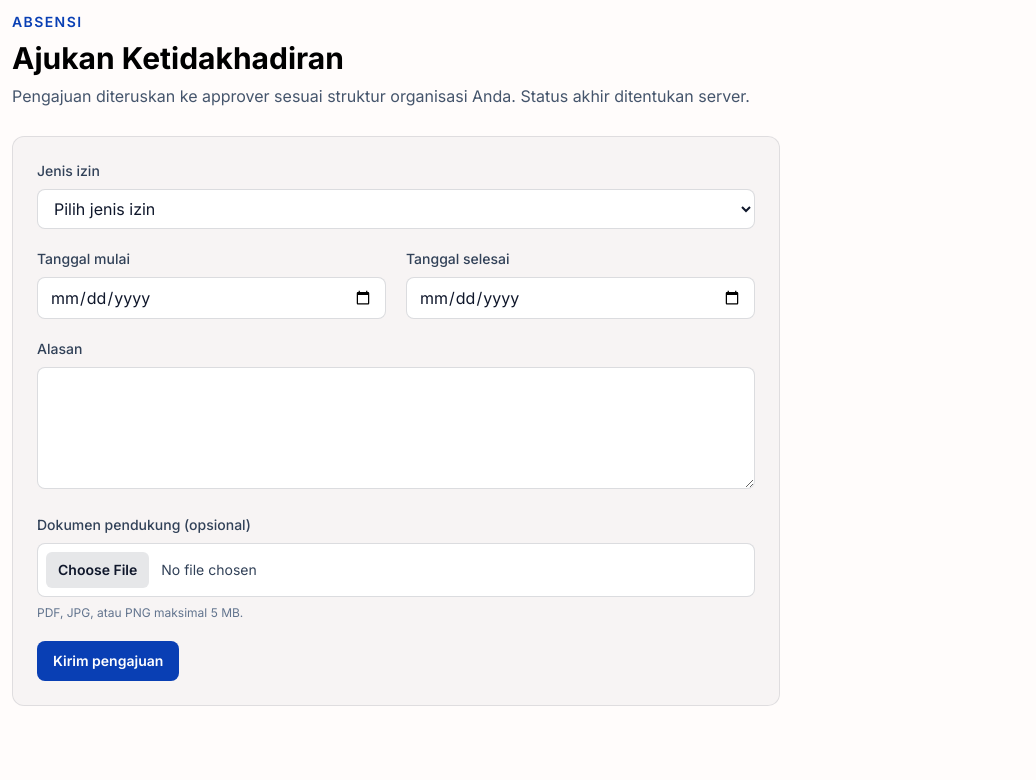
LeaveRequestPage › rejects an end date before the start date
Step 1. Select "Cuti Tahunan" in the dropdown labelled "Jenis izin" → (396, 209), box [37,189,755,229]
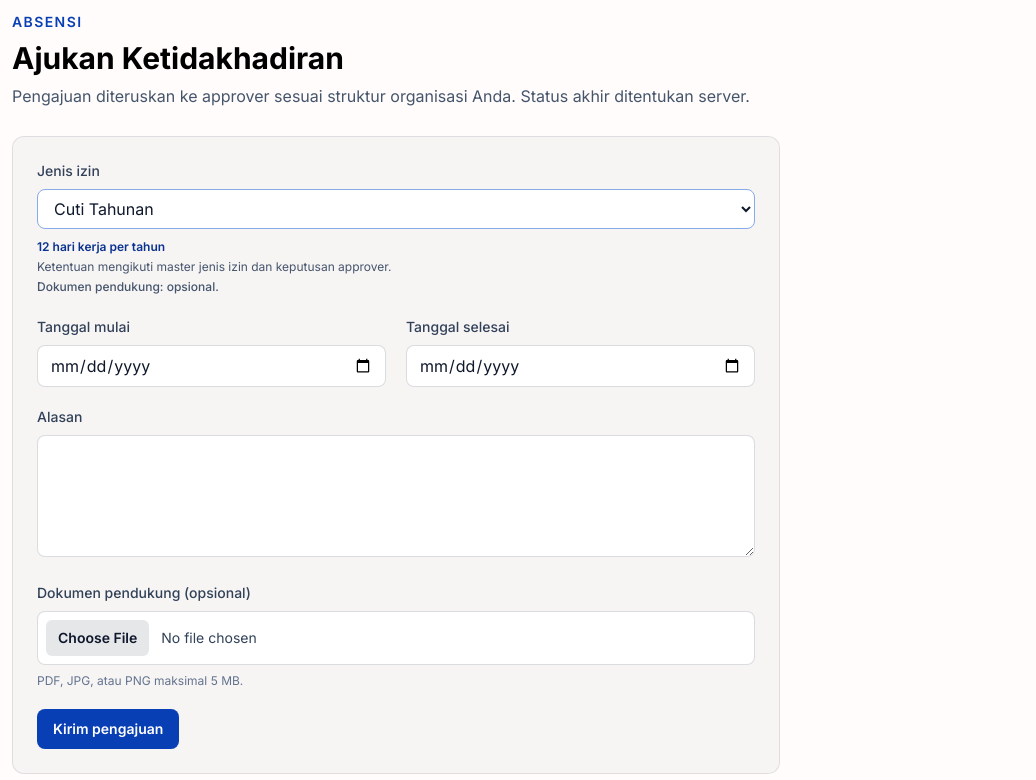
Step 2. Type "2026-08-12" into the date field labelled "Tanggal mulai" → (212, 366), box [37,345,386,387]
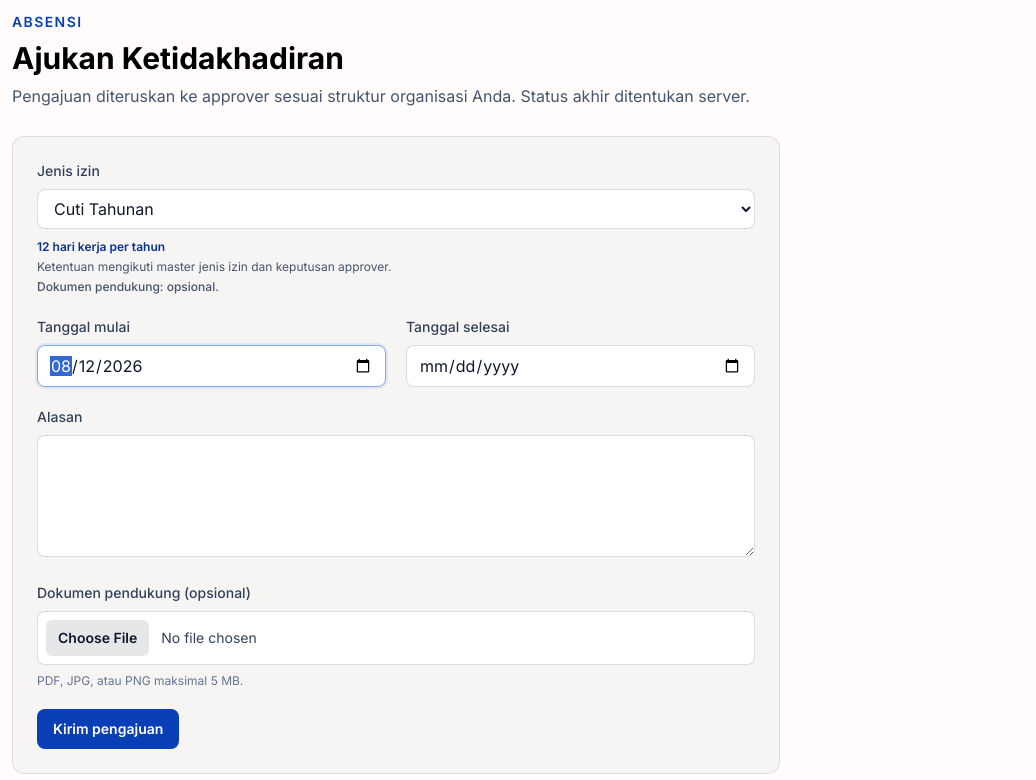
Step 3. Type "2026-08-10" into the date field labelled "Tanggal selesai" → (580, 366), box [406,345,755,387]
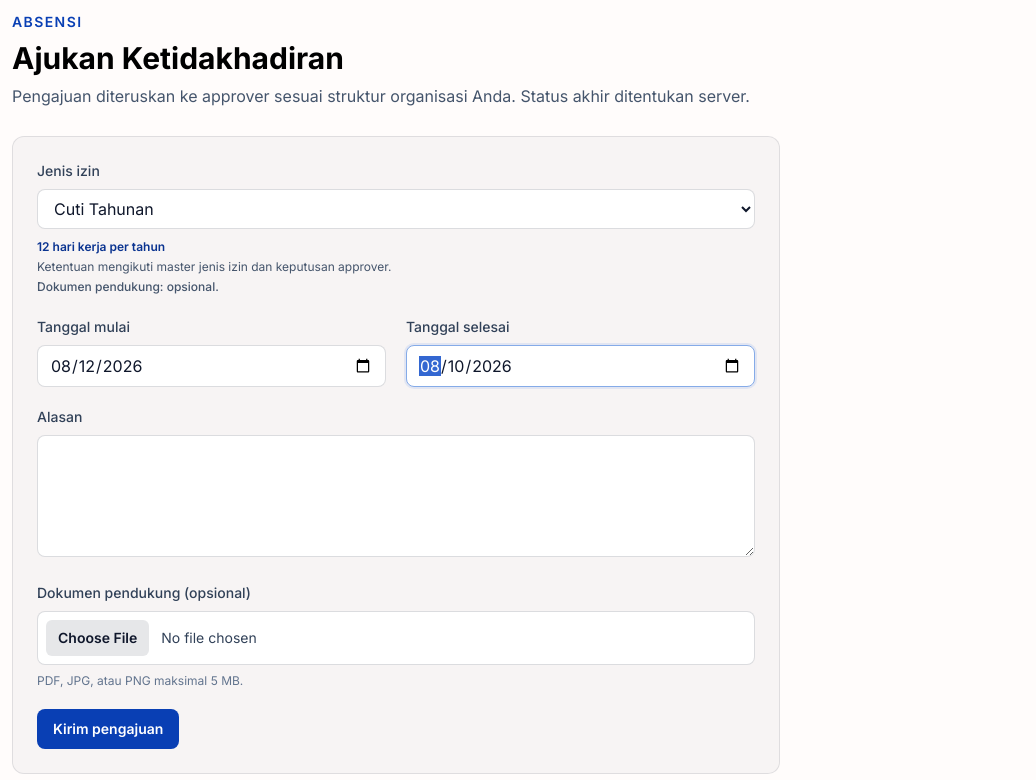
Step 4. Type "Keperluan keluarga sintetis" into the text box labelled "Alasan" → (396, 496), box [37,435,755,557]
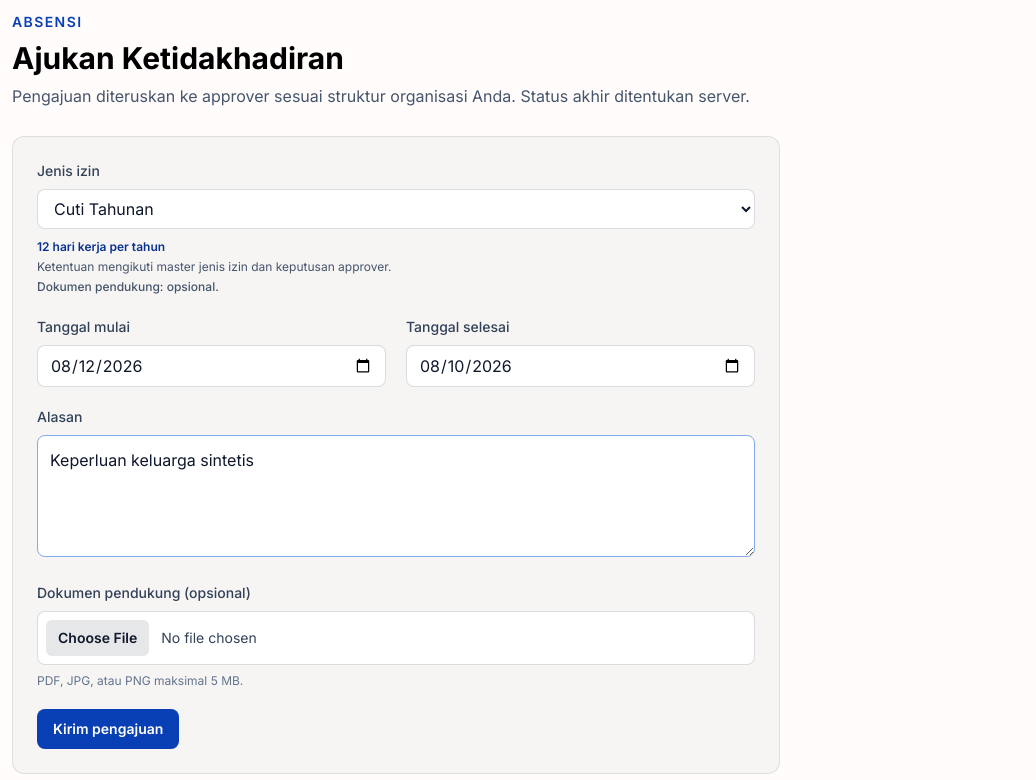
Step 5. Click the button "Kirim pengajuan" → (108, 729), box [37,709,179,749]
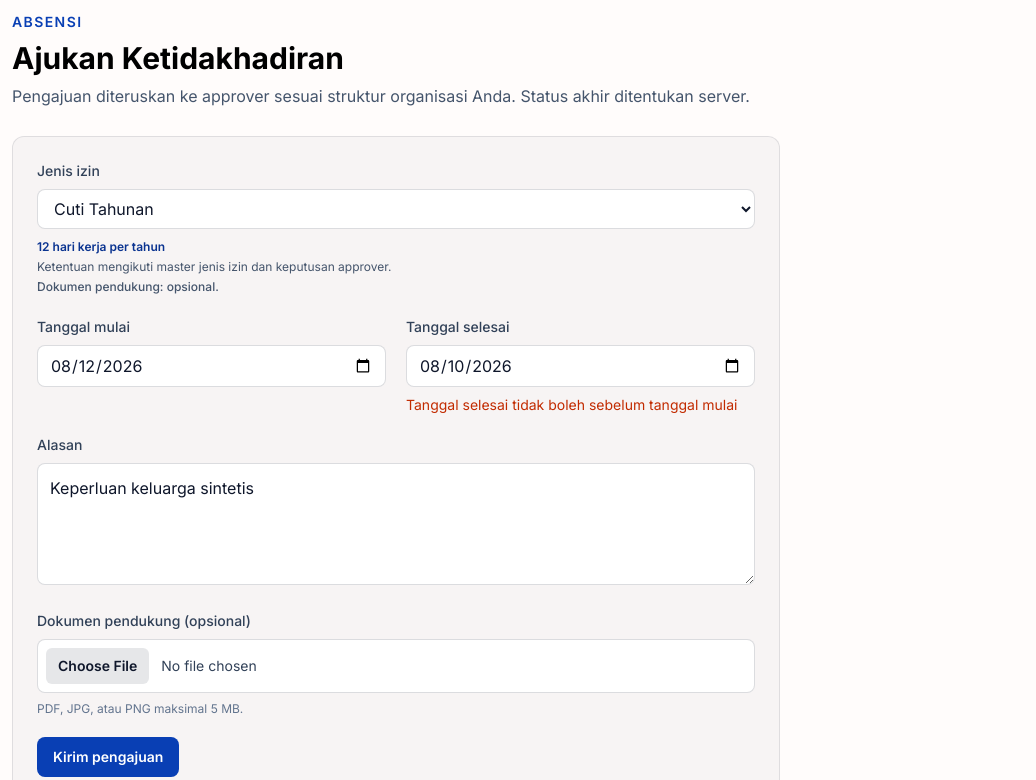
Now the text "Tanggal selesai tidak boleh sebelum tanggal mulai" is shown, box [406,395,755,415]
